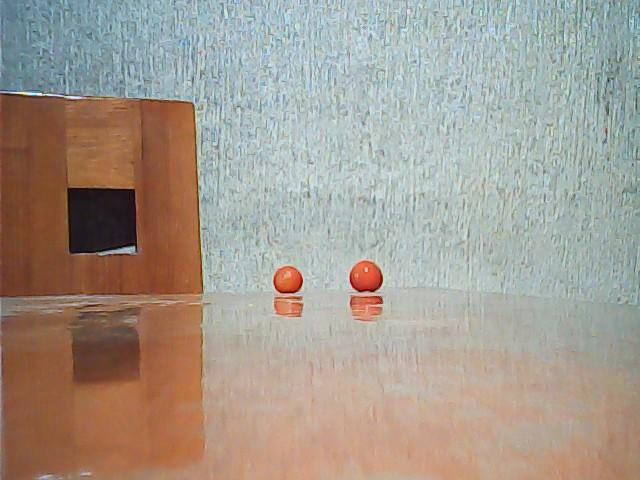maduro: (350, 259, 382, 292)
verde: (273, 265, 303, 295)
